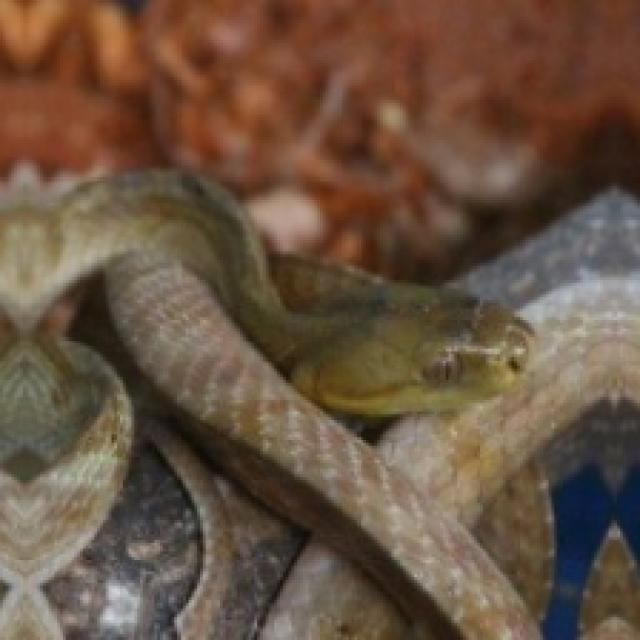philippine cat snake: (0, 171, 637, 637), (0, 171, 537, 637)
